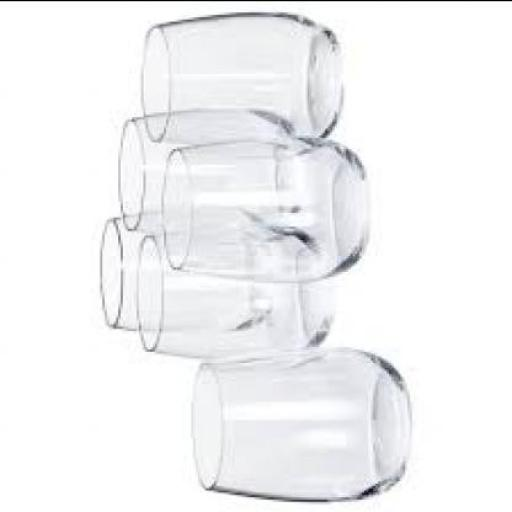glass: (191, 351, 407, 496), (160, 137, 366, 277), (141, 11, 341, 148), (134, 232, 332, 353), (116, 106, 289, 232), (98, 210, 280, 328)
